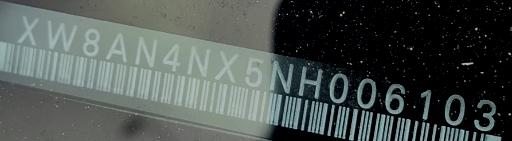letter: (46, 18, 78, 54), (297, 64, 325, 99), (133, 32, 159, 69), (268, 58, 294, 93), (214, 47, 238, 84), (186, 43, 210, 78), (382, 80, 406, 115), (442, 92, 466, 127), (327, 70, 351, 104), (473, 98, 497, 132), (355, 74, 377, 110), (16, 13, 40, 46), (104, 31, 128, 64), (242, 55, 264, 88), (160, 40, 182, 71), (82, 26, 100, 59), (417, 84, 431, 120)
